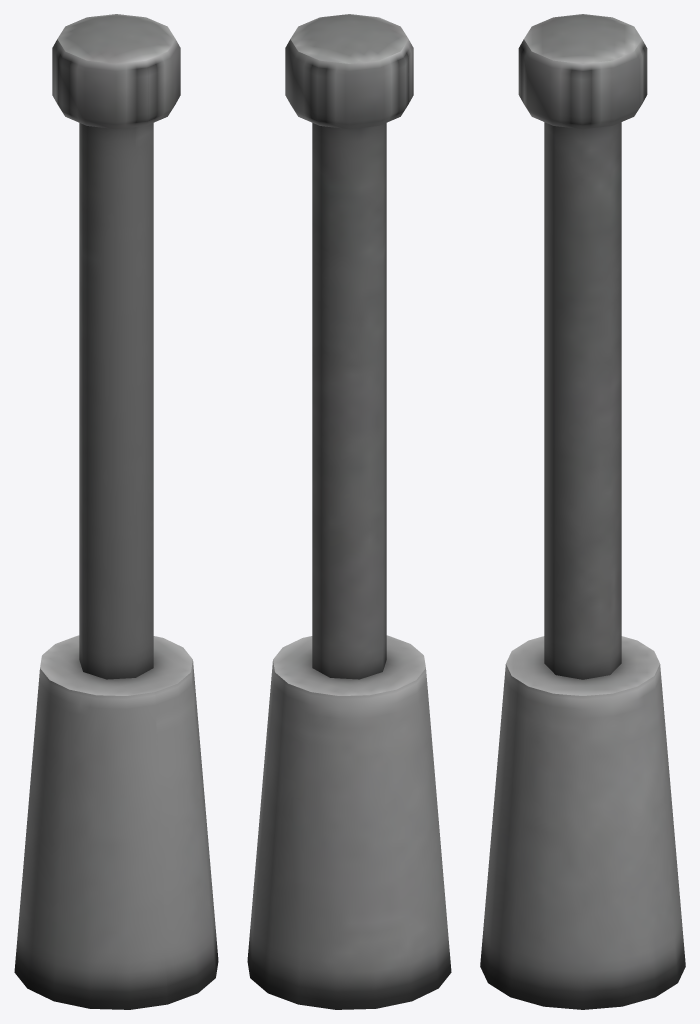
The model's file is probe.obj.
3 views of the same model, side by side, from view 1: azimuth 30°, elevation 25°; view 2: azimuth 150°, elevation 25°; view 3: azimuth 270°, elevation 25° (orthographic).
Parts seen in each view (by area): view 1: probe; view 2: probe; view 3: probe.
Boxes of the visible parts, <box> form: probe: <box>14,14,218,1009</box>; probe: <box>247,14,451,1009</box>; probe: <box>480,14,685,1009</box>.
Bounding box in the file's own units: 0.1 × 0.5025 × 0.1.
Materials: 1 (1 with a texture image).
